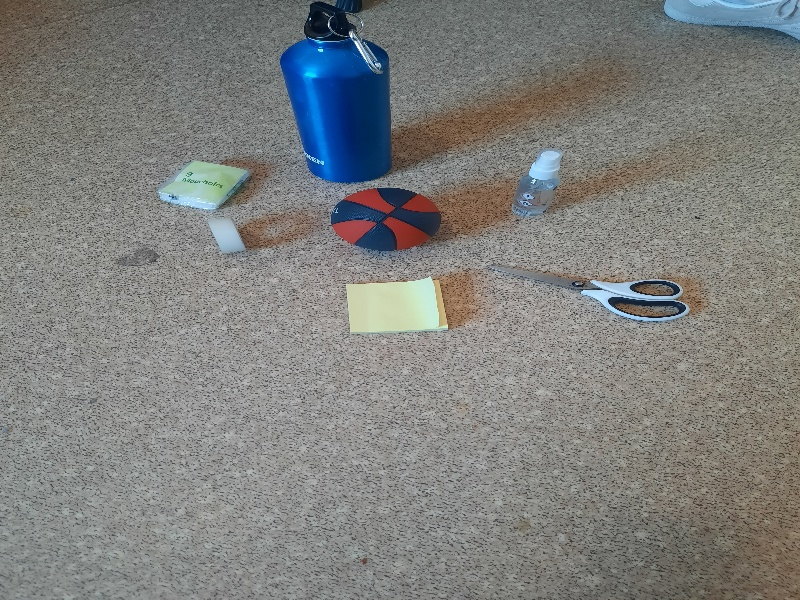ballon: (331, 189, 443, 250)
ciseaux: (490, 265, 694, 323)
gel: (510, 150, 564, 220)
gourde: (281, 2, 395, 184)
mouchoirs: (155, 161, 252, 212)
post-it: (343, 278, 454, 334)
scotch: (207, 218, 254, 254)
